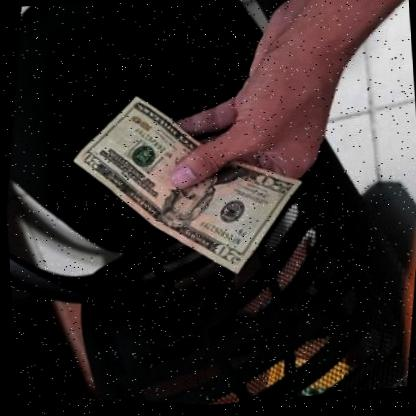twenty-front: (51, 72, 319, 301)
